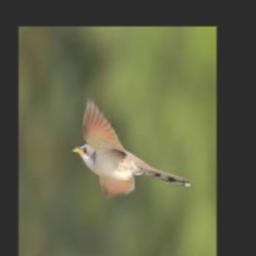Cuckoo: (72, 99, 190, 194)
